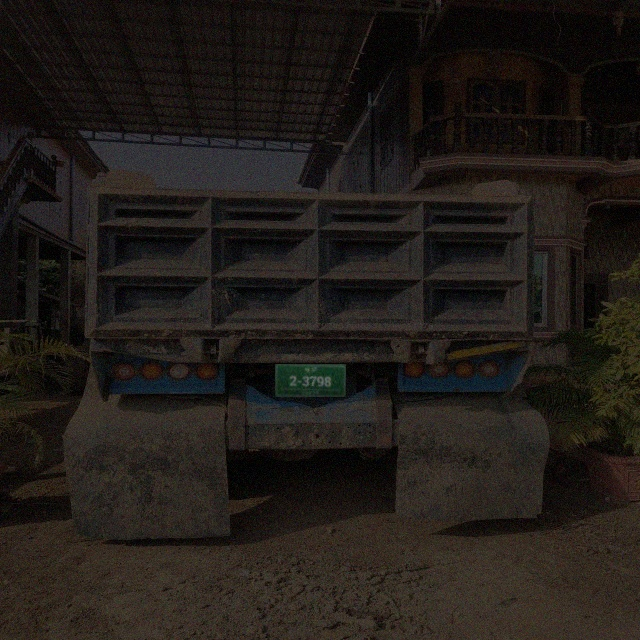Plate Number: (275, 364, 346, 398)
